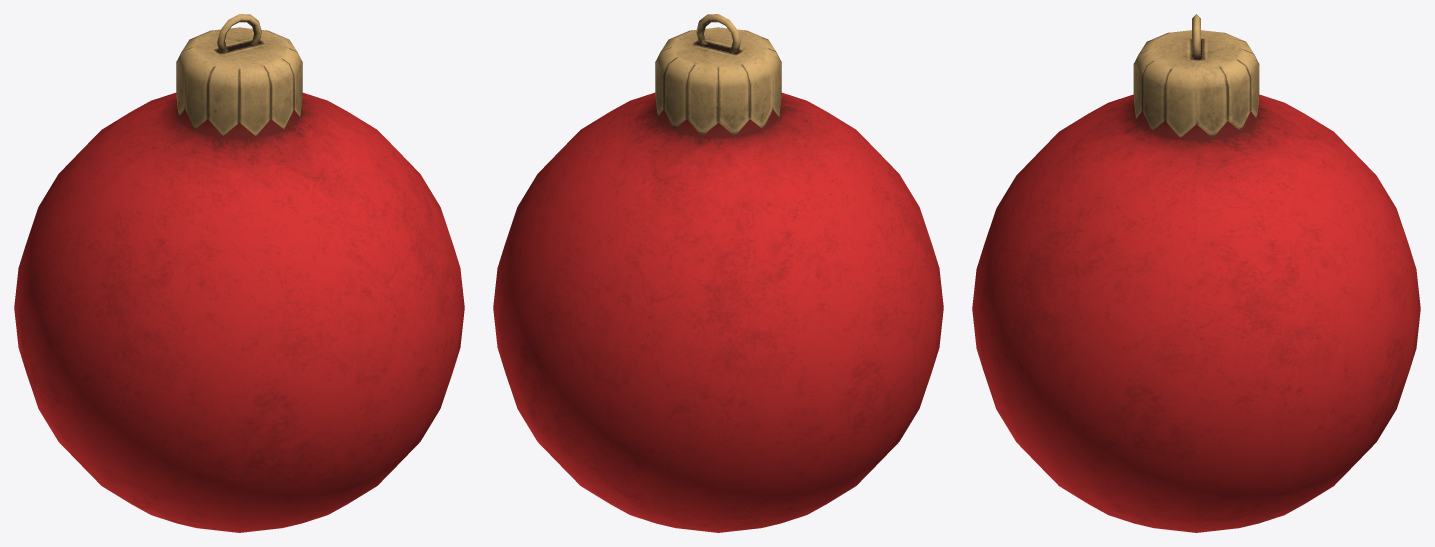
File: Christmas_Ball_XYZ.fbx
3 renders of one model, left to right at view 1: azimuth 30°, elevation 25°; view 2: azimuth 150°, elevation 25°; view 3: azimuth 270°, elevation 25°, orthographic.
Visible parts, largest first — view 1: Christmas_Ball_Low; view 2: Christmas_Ball_Low; view 3: Christmas_Ball_Low.
Boxes of the visible parts, x1,y1,x2,y2 form: Christmas_Ball_Low: (14, 14, 464, 532); Christmas_Ball_Low: (493, 14, 943, 532); Christmas_Ball_Low: (972, 14, 1420, 532).
Bounding box in the file's own units: 10 × 12.2 × 10.
Materials: 1 (1 with a texture image).
